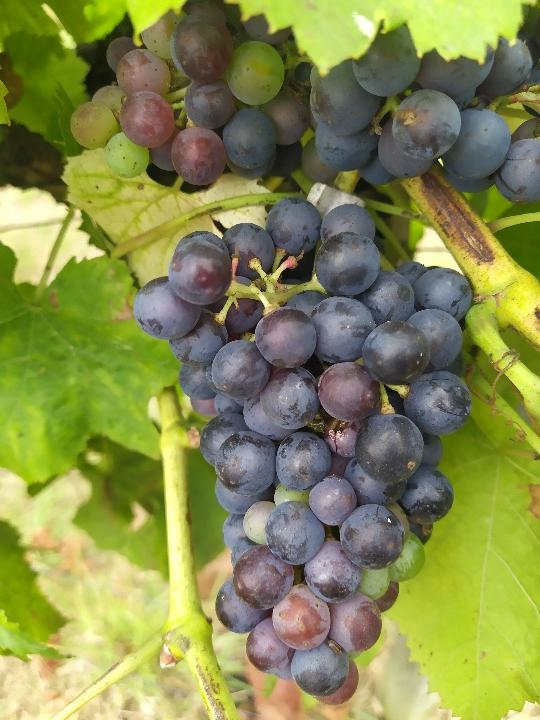grape: (130, 201, 471, 710)
